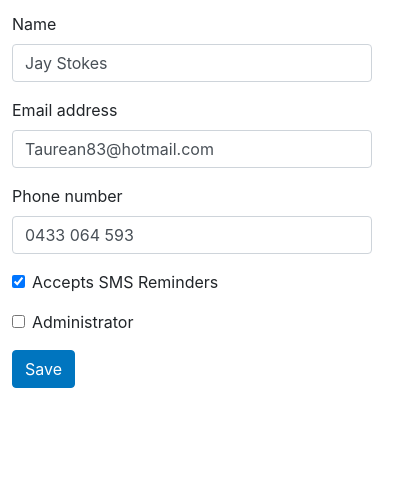
Existing User › Empty form submission fails
The width and height of the screenshot is (393, 479).
Step 1. Clear the field labelled "Email address" → {"x": 192, "y": 149}, box [12, 130, 372, 168]
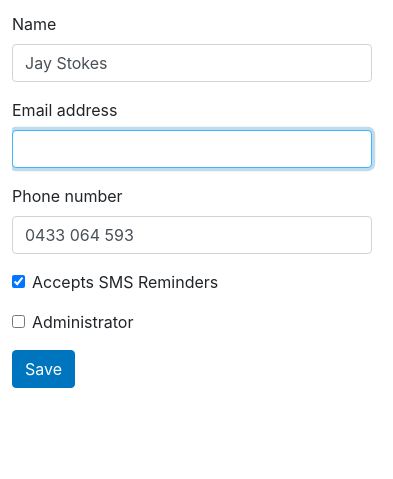
Step 2. Clear the field labelled "Name" → {"x": 192, "y": 63}, box [12, 44, 372, 82]
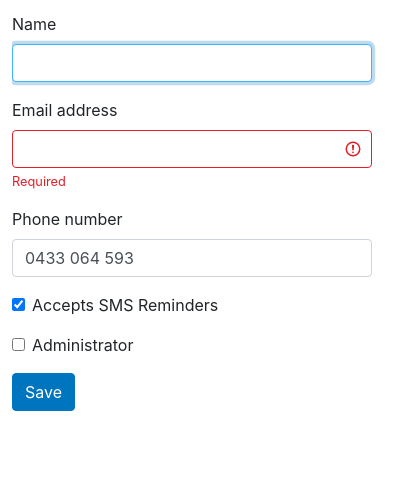
Step 3. Clear the field labelled "Phone number" → {"x": 192, "y": 258}, box [12, 239, 372, 277]
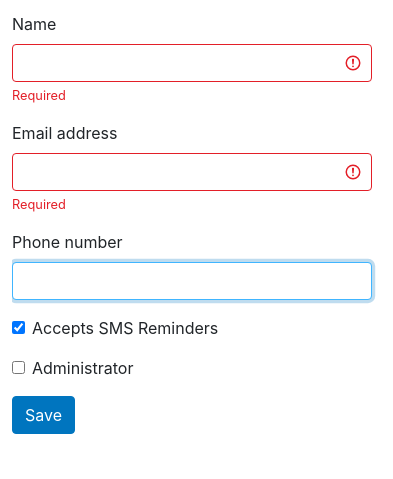
Step 4. Click the button "Save" → {"x": 44, "y": 415}, box [12, 396, 75, 434]
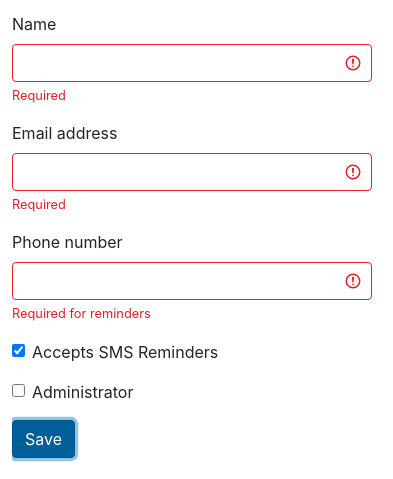
Result: the text "Required" is shown 3 times at [12, 88, 66, 103]; [12, 197, 66, 212]; [12, 306, 151, 321]
